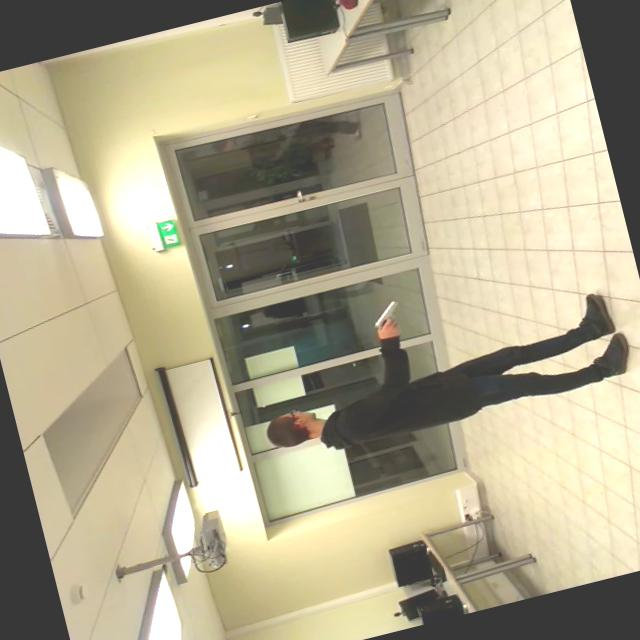handgun: (355, 286, 414, 340)
